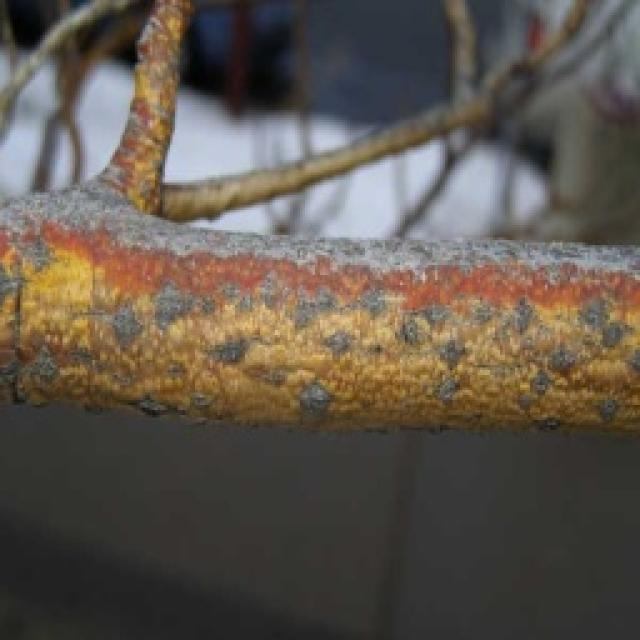Golden_canker: (18, 54, 640, 504)
